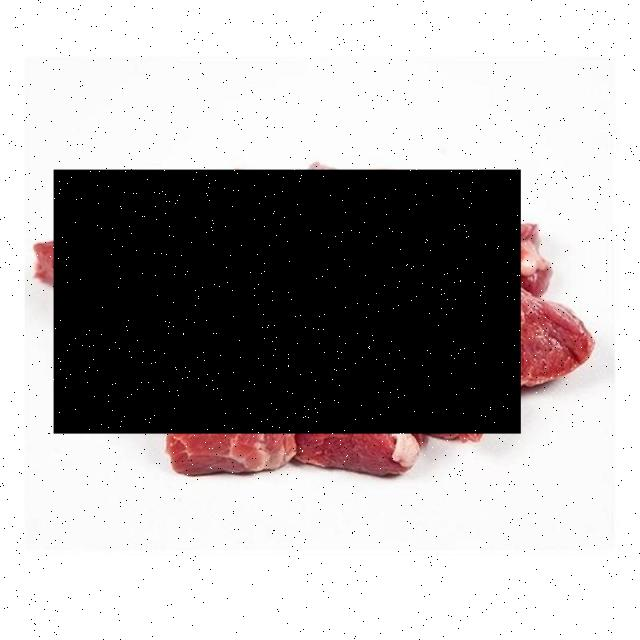Mutton: (54, 170, 521, 434)
